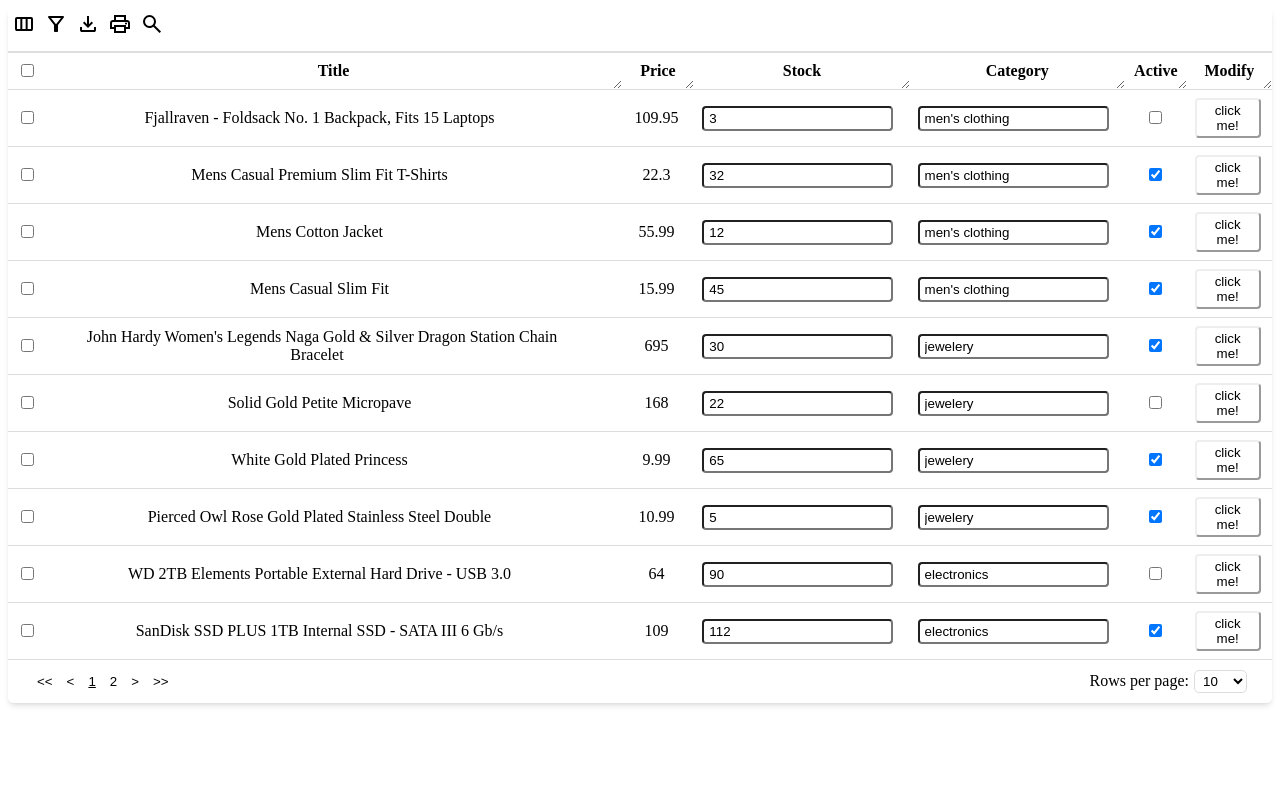
Test: click filter button
Click the icon titled "Filter Table" at {"x": 56, "y": 26}, box [44,12,69,40]
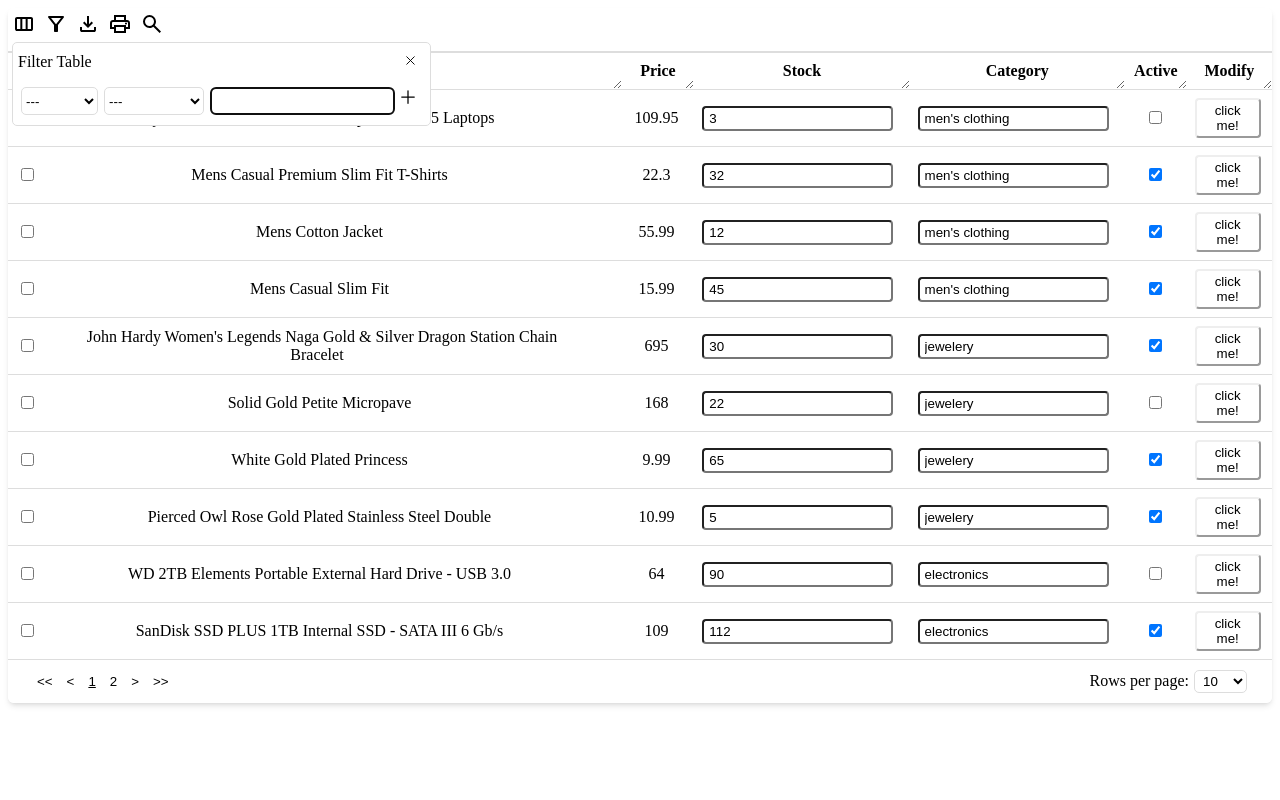
Expected: the element with test id "rdt-filter" is shown, [12,42,431,126]
Expected: the icon titled "Add Filter" is shown, [398,87,418,115]
